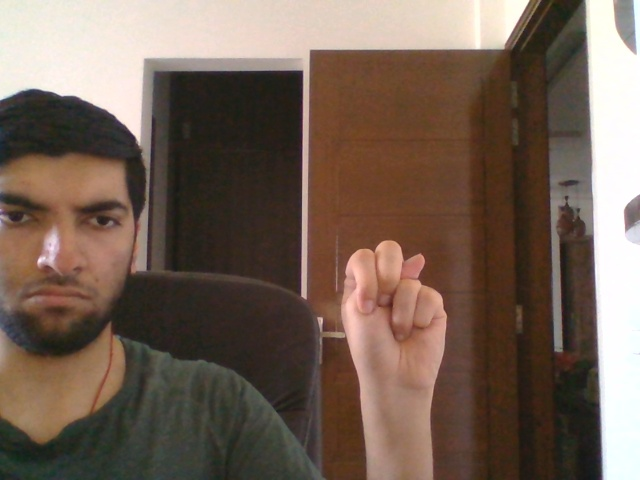LetterN: (339, 237, 448, 397)
